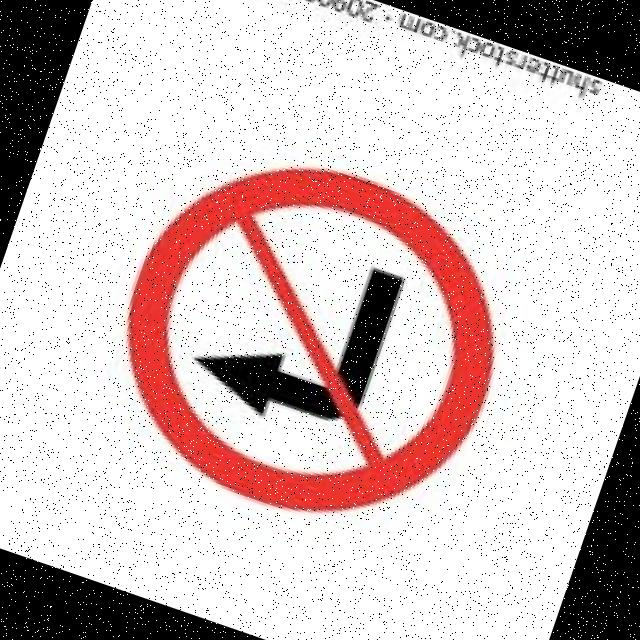do_not_turn_right: (65, 104, 554, 570)
